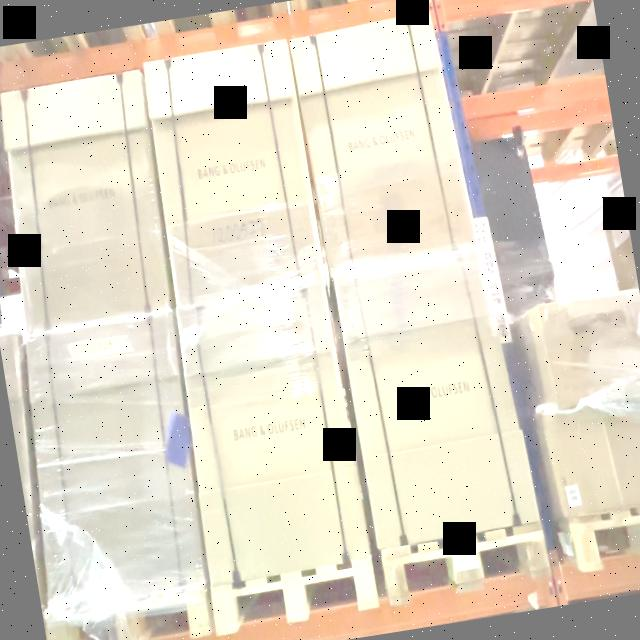box: (168, 289, 370, 582), (332, 260, 528, 550), (23, 311, 200, 595), (134, 42, 326, 303), (0, 71, 173, 337), (294, 14, 460, 266), (536, 297, 640, 404), (536, 394, 622, 520)
